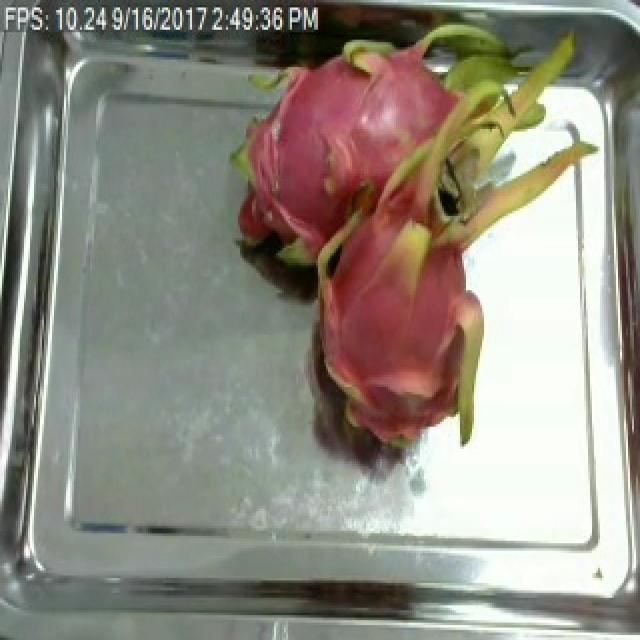fruit: (284, 74, 564, 484)
